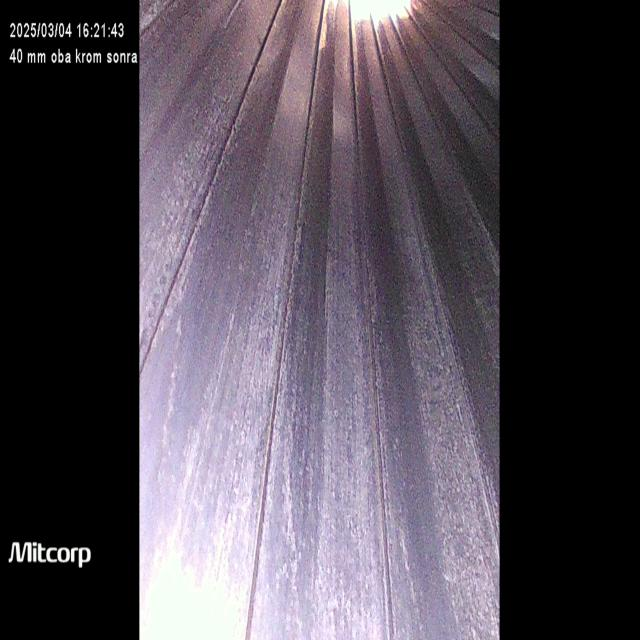hata_9.3: (393, 182, 500, 634), (311, 207, 395, 631), (229, 174, 290, 444)
